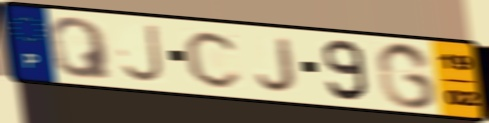9: (321, 38, 371, 102)
C: (182, 28, 245, 91)
G: (374, 40, 440, 111)
J: (119, 22, 168, 86), (254, 35, 298, 94)
Q: (46, 15, 115, 81)
